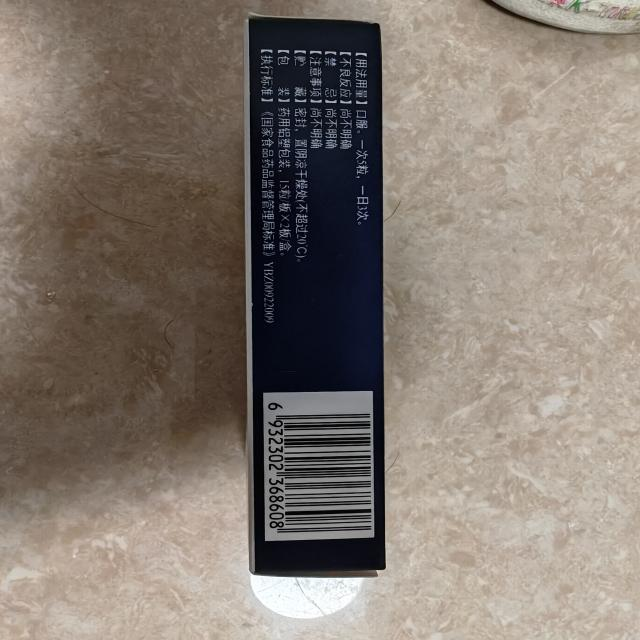box: (231, 6, 397, 584)
